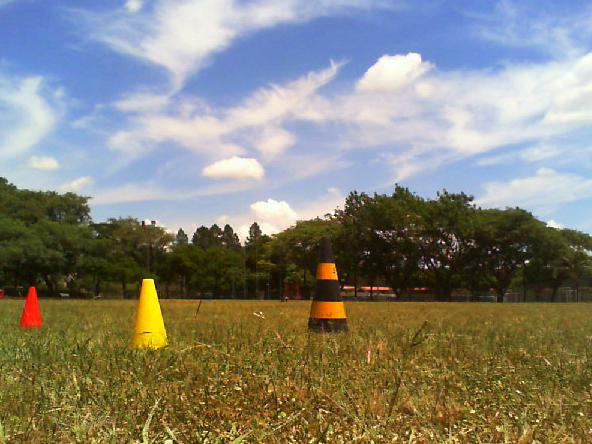0 cone: (307, 234, 350, 334), (128, 279, 171, 350), (18, 285, 44, 328)
